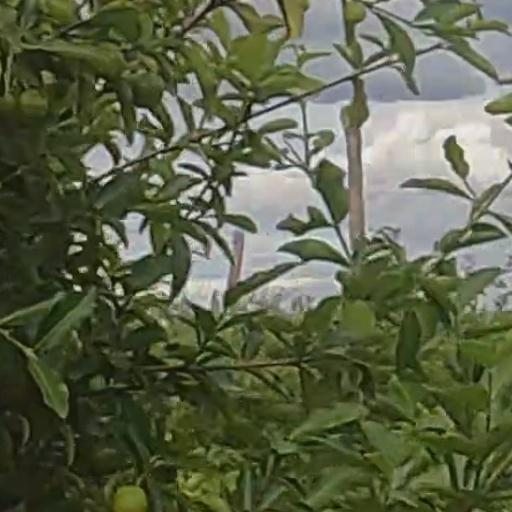acerola_verde: (134, 72, 163, 106), (113, 485, 147, 511)
